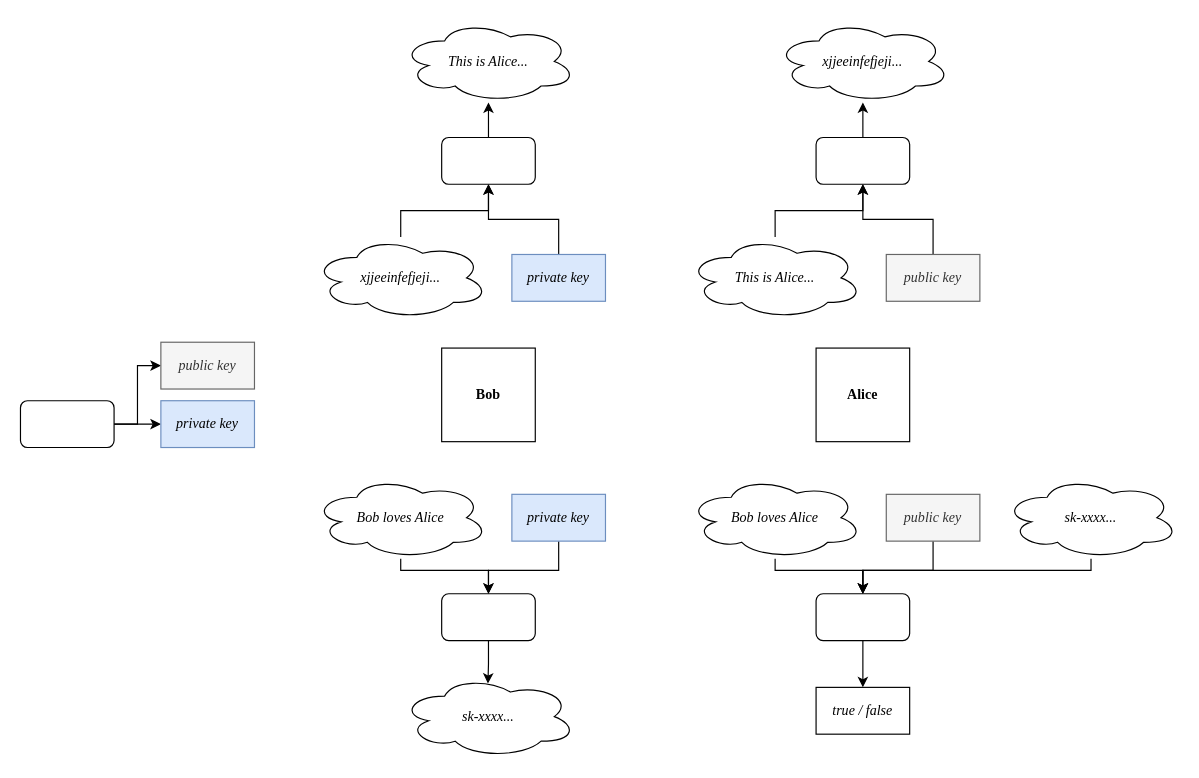
Image size: 1199x778. Some labels were removed from this diagram. The centre of each missing label's shape, as x and y in pixels:
"decrypt" belongs at point 488,160.
"encrypt" belongs at point 862,160.
"keygen" belongs at point 66,424.
"sign" belongs at point 488,617.
"verify" belongs at point 862,617.
